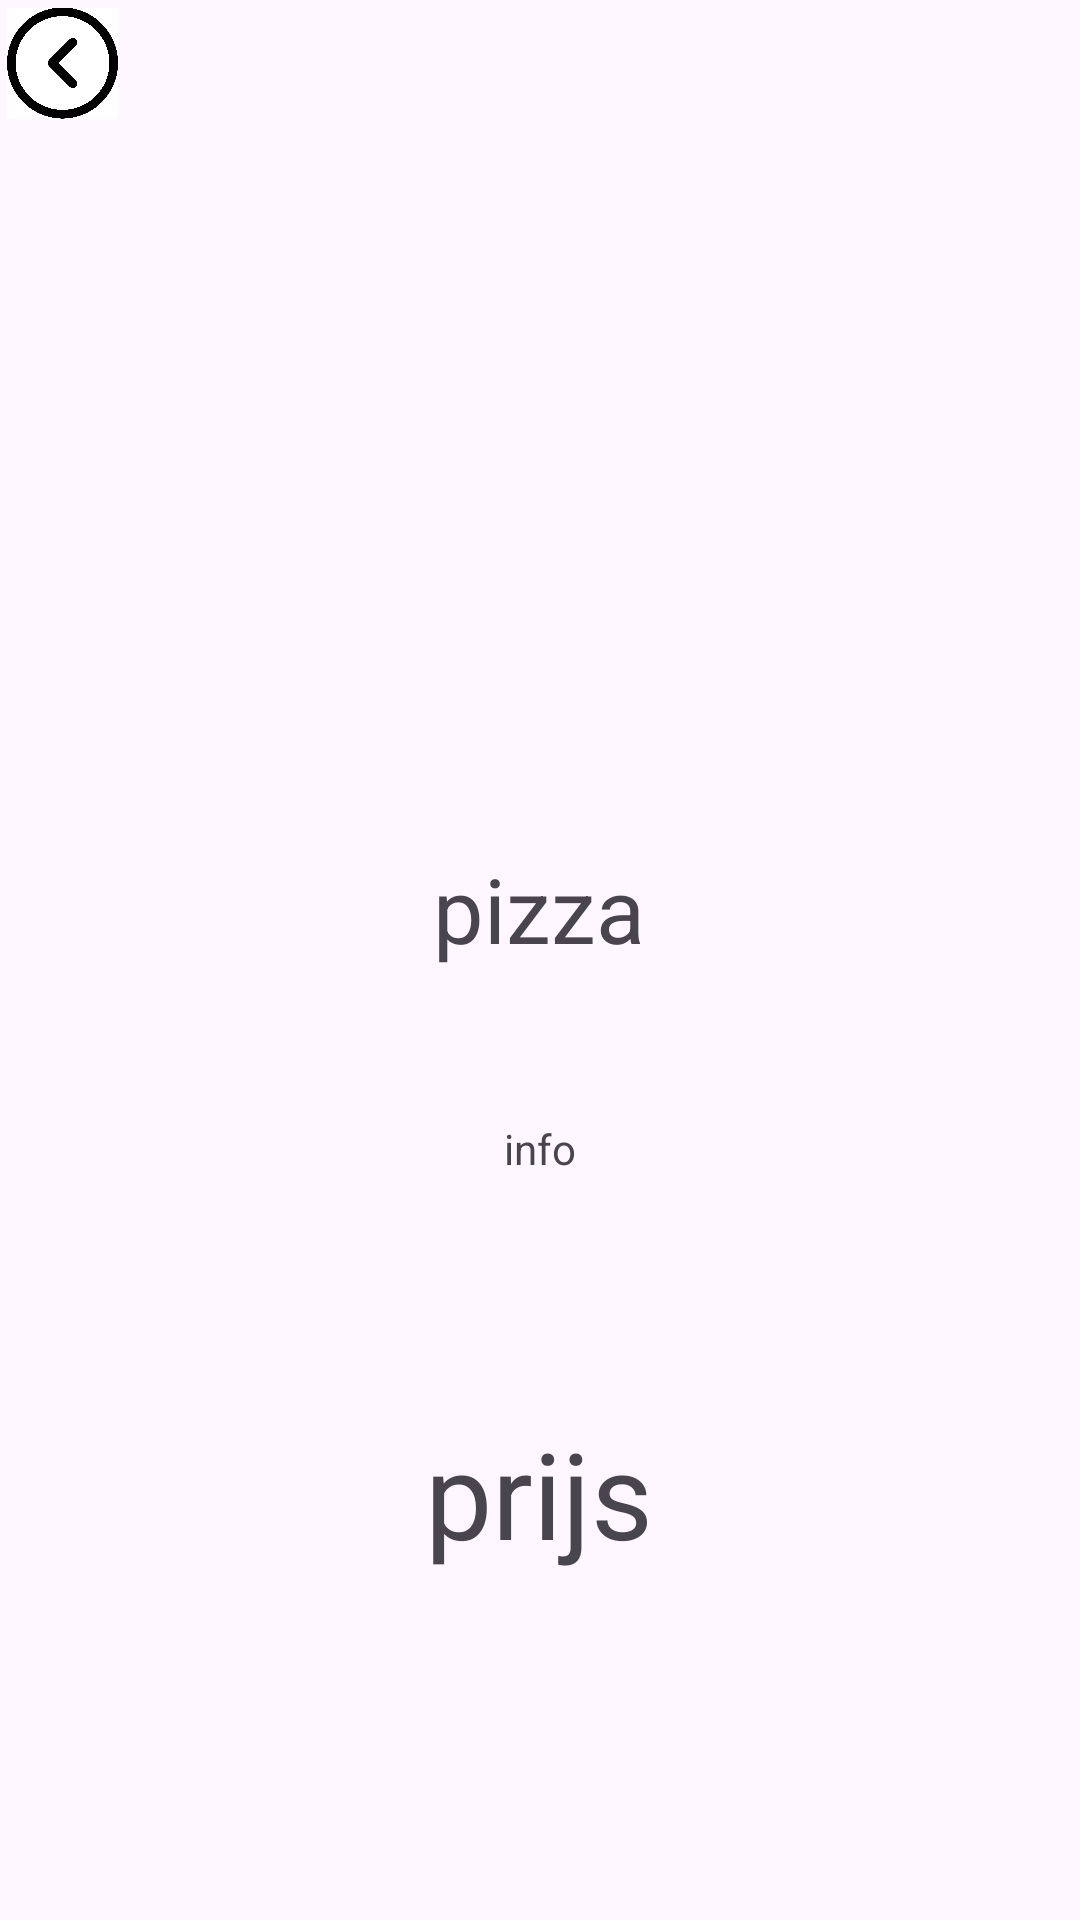

Icons on this 1080×1920 Android screen, each with the point to tap as point (x, y):
back arrow illustration free: point (62, 63)
